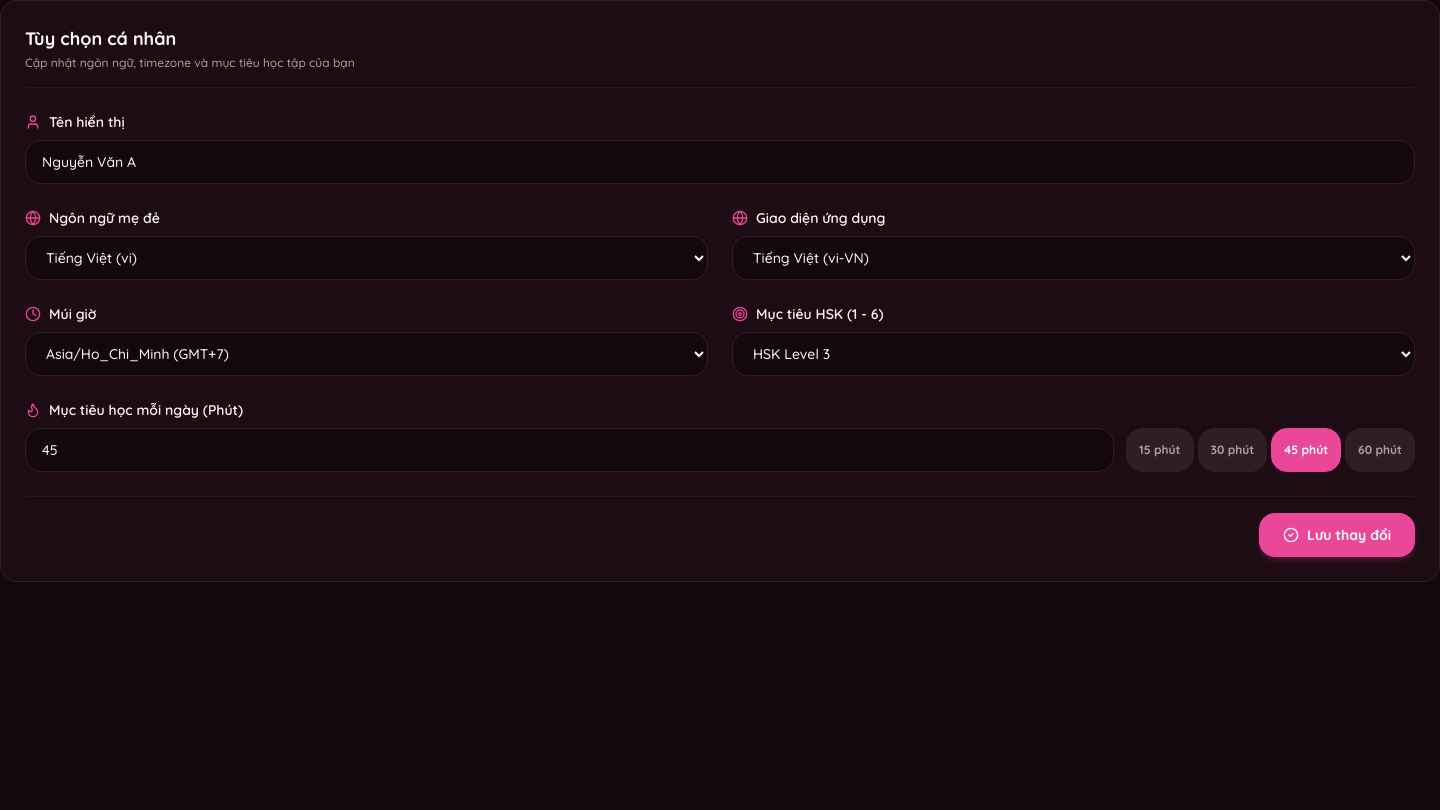
Test case: ProfilePreferencesForm Component › handles successful profile update with expectedProfileVersion
Replace the text in the field with test id "profile-display-name-input" with "Nguyễn Văn B": (720, 162) [25, 140, 1415, 184]
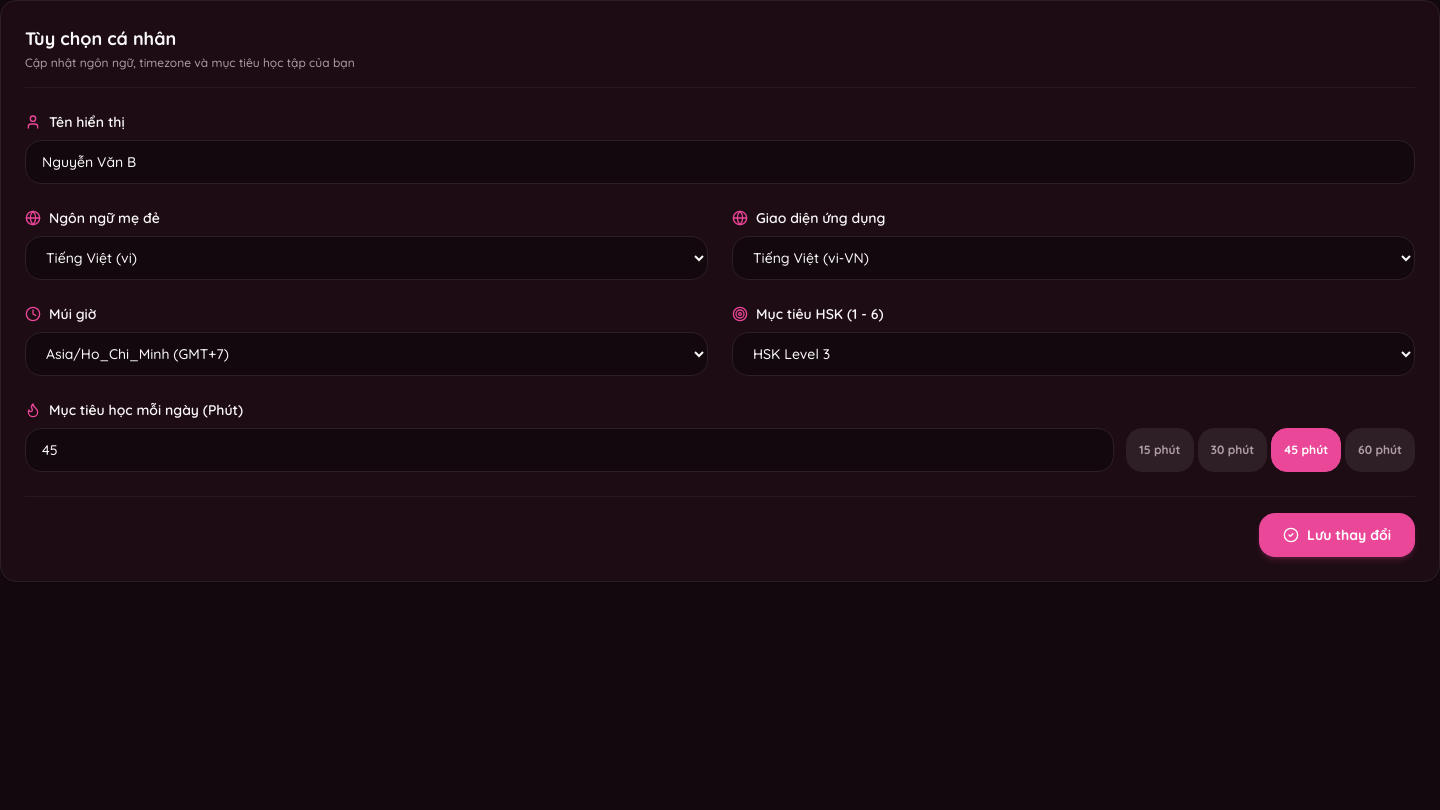
Click the button with test id "profile-submit-btn": (1337, 535) [1259, 513, 1415, 557]
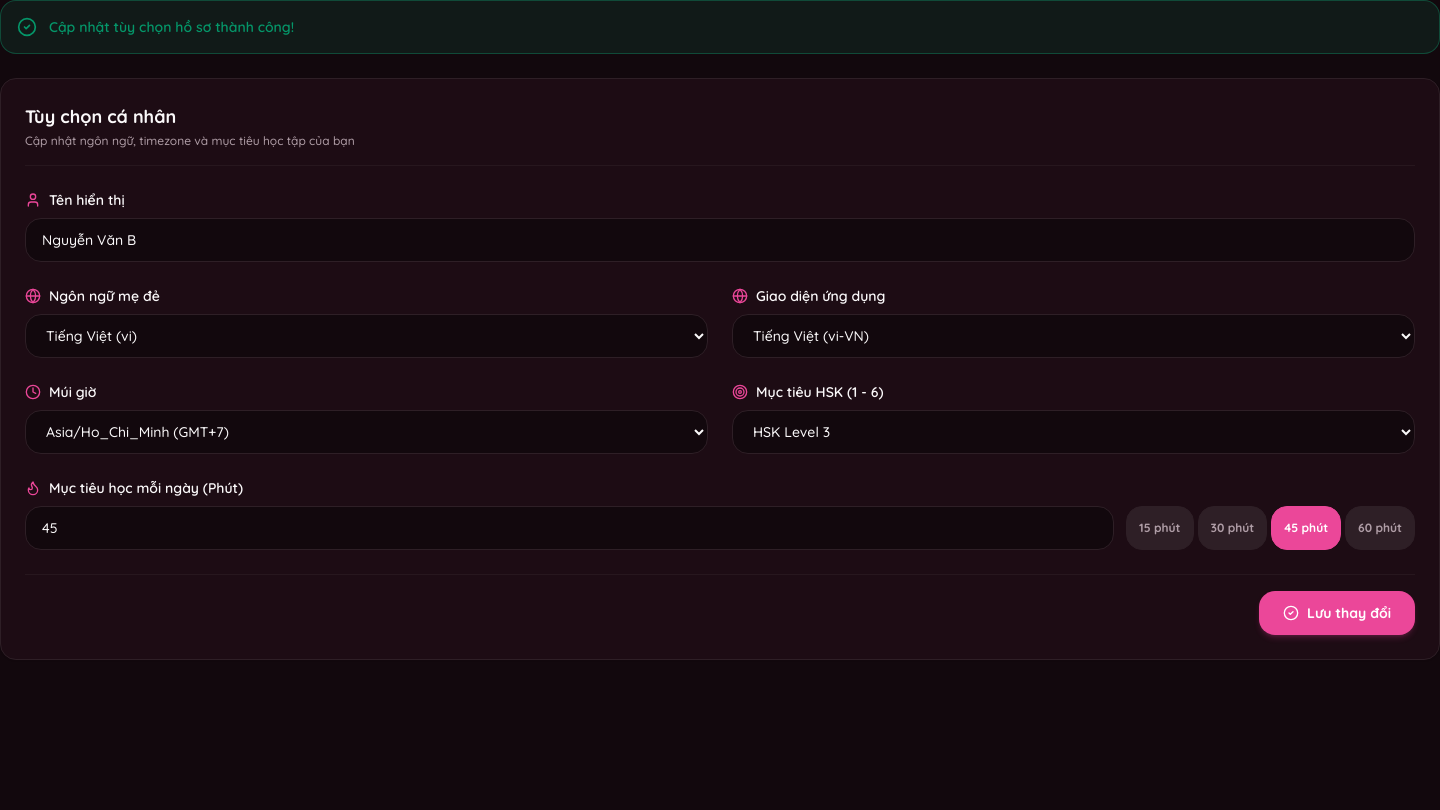
Now the element with test id "profile-success-alert" is shown, box [0, 0, 1439, 54]
